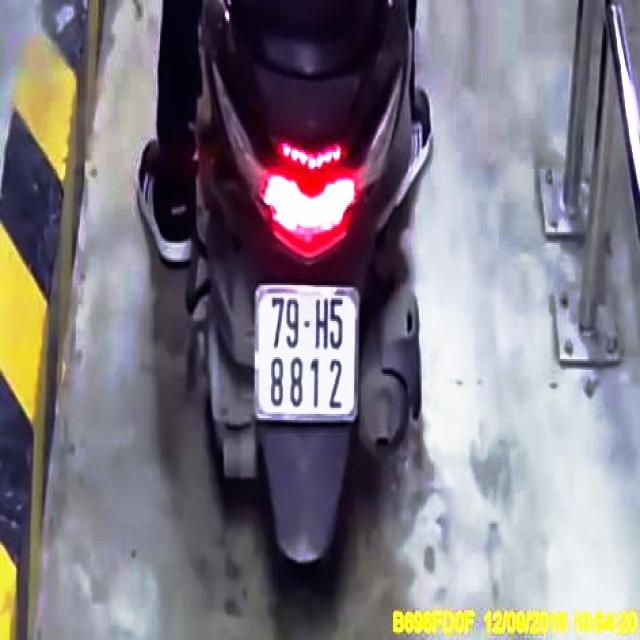license_plate: (255, 289, 358, 417)
